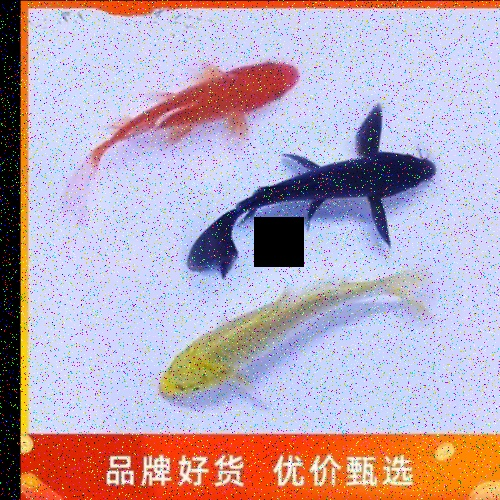fry: (125, 274, 451, 420), (200, 109, 451, 280), (93, 44, 308, 145)
